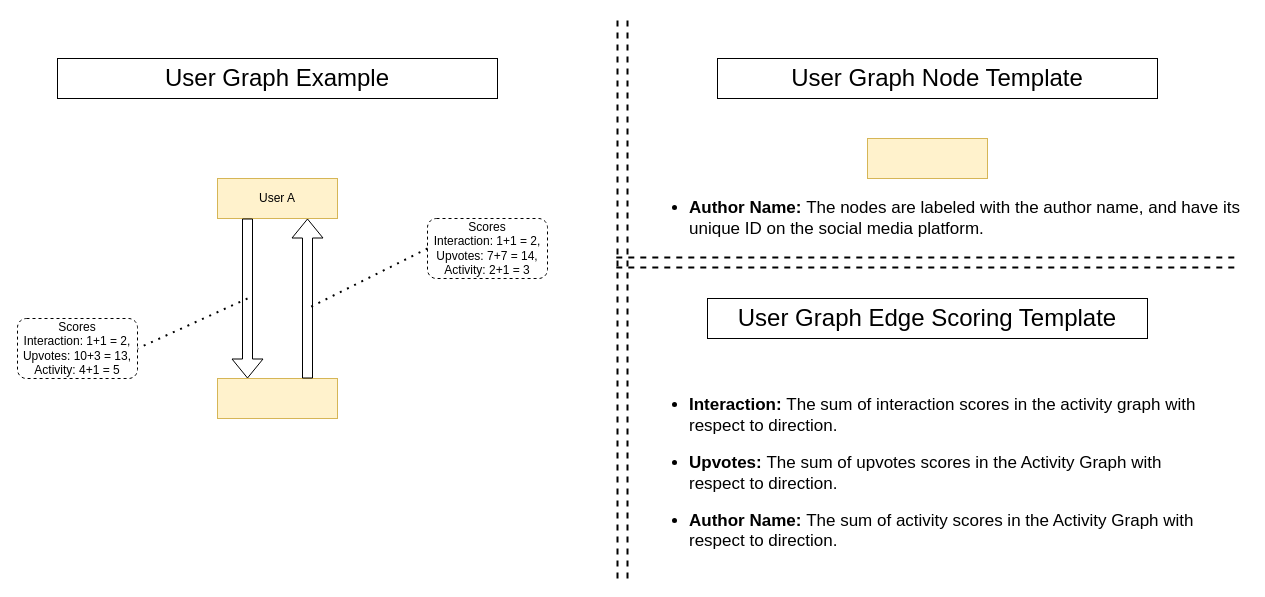
Image size: 1265x597. Some labels were removed from this diagram. The shapes that lost their labels are listed below. From the top down, each one's centre as x and y in pixels, then its label:
point 927,158: Author Name
point 277,398: User D
